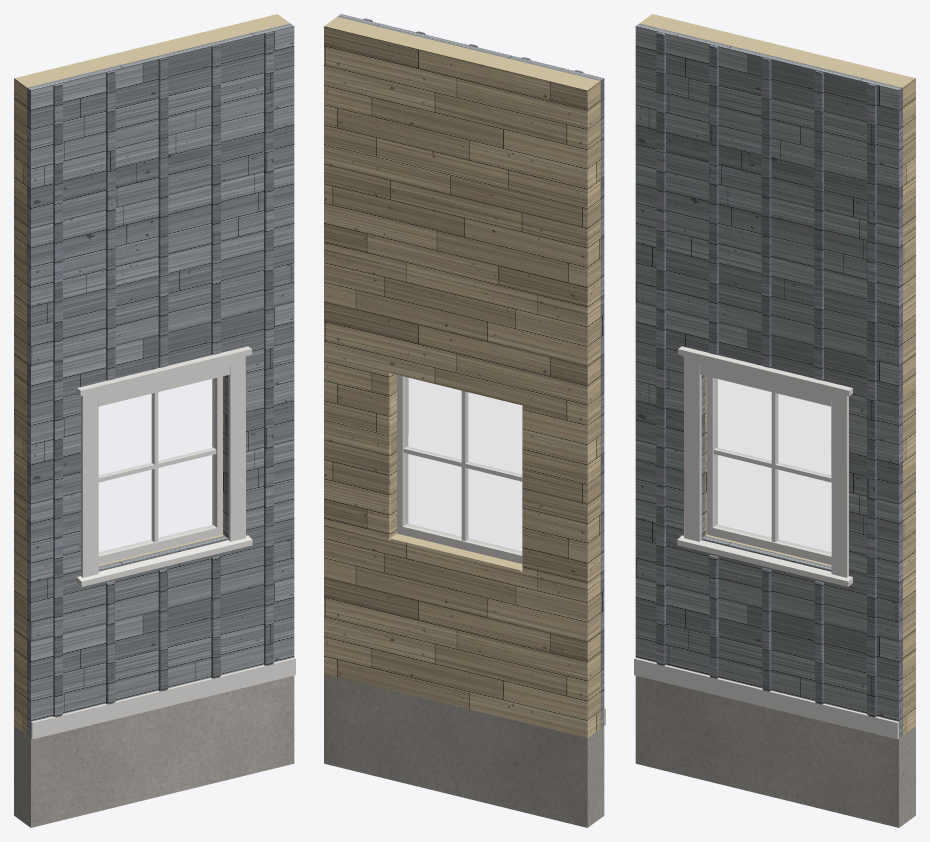
File: m_win.glb
3 views of the same model, side by side, from view 1: azimuth 30°, elevation 25°; view 2: azimuth 150°, elevation 25°; view 3: azimuth 330°, elevation 25° (orthographic).
Parts seen in each view (by area): view 1: m_win_siding, m_win_batten, m_win_concrete, m_win_trim, folha_glass, m_win_plaster, folha_trim; view 2: m_win_plaster, m_win_concrete, folha_glass, folha_trim, m_win_siding; view 3: m_win_siding, m_win_batten, m_win_concrete, m_win_trim, folha_glass, m_win_plaster, folha_trim.
Boxes of the visible parts, bbox=[...] form: m_win_siding: bbox=[27, 23, 294, 737]; m_win_batten: bbox=[53, 31, 273, 717]; m_win_concrete: bbox=[14, 675, 294, 827]; m_win_trim: bbox=[31, 346, 295, 739]; folha_glass: bbox=[99, 379, 214, 553]; m_win_plaster: bbox=[14, 14, 289, 735]; folha_trim: bbox=[98, 376, 222, 564]; m_win_plaster: bbox=[324, 17, 600, 738]; m_win_concrete: bbox=[324, 674, 604, 827]; folha_glass: bbox=[405, 377, 521, 552]; folha_trim: bbox=[397, 375, 522, 563]; m_win_siding: bbox=[337, 14, 604, 728]; m_win_siding: bbox=[635, 23, 902, 737]; m_win_batten: bbox=[656, 31, 876, 717]; m_win_concrete: bbox=[635, 675, 915, 827]; m_win_trim: bbox=[634, 346, 898, 739]; folha_glass: bbox=[715, 379, 830, 553]; m_win_plaster: bbox=[640, 14, 915, 735]; folha_trim: bbox=[707, 376, 831, 564].
Size of the model in its own units: 2 by 5.35 by 0.28.
Materials: 6 (4 with a texture image).
